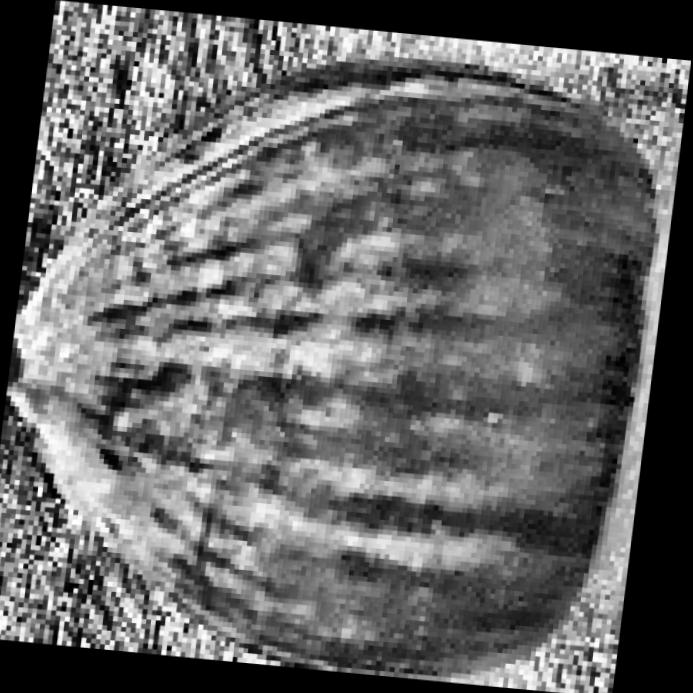qualityHazelnut: (0, 5, 693, 693)
